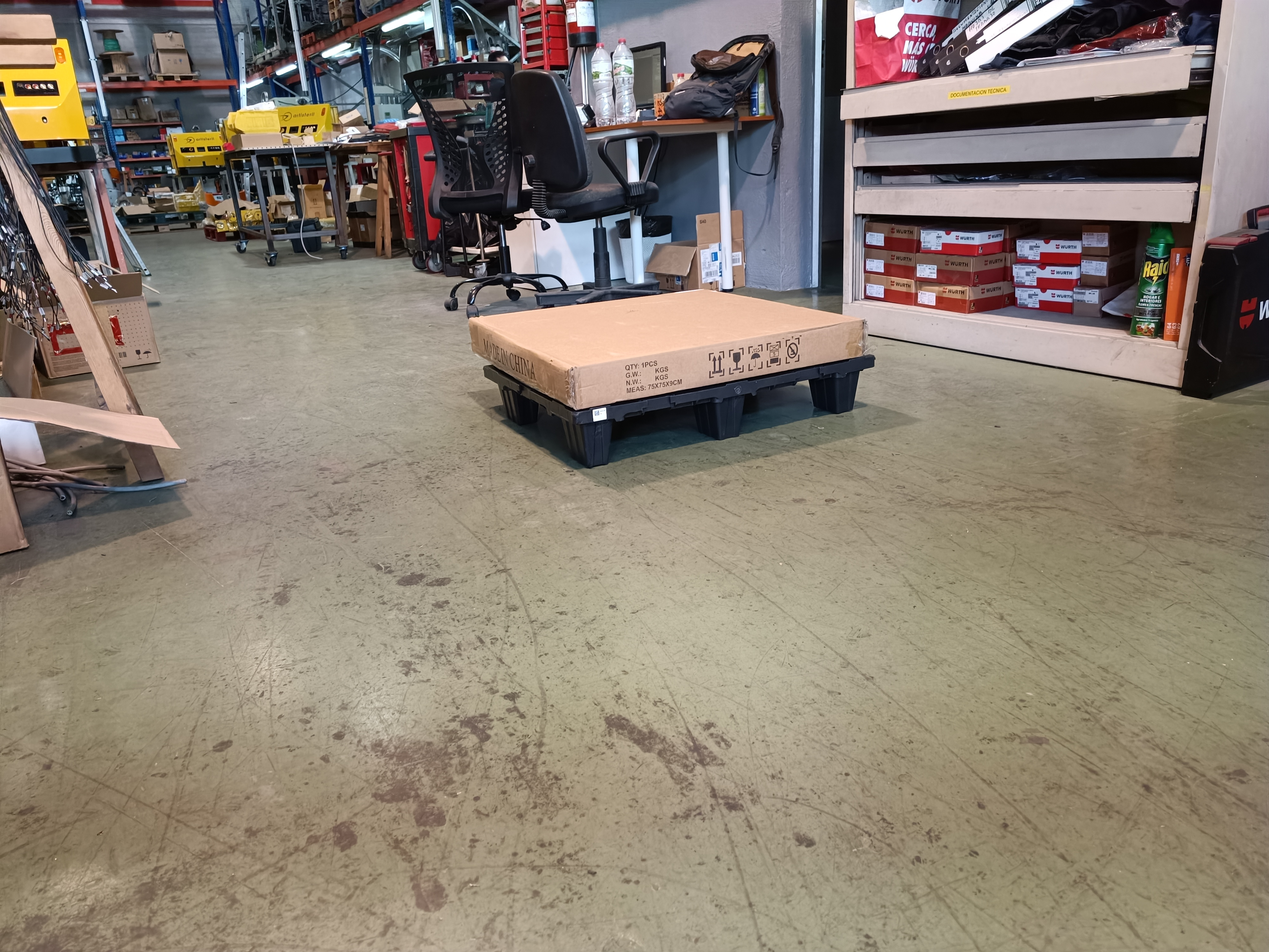block: (810, 356, 869, 414), (560, 411, 613, 466), (501, 391, 549, 433), (692, 399, 747, 435)
front: (577, 355, 872, 468)
hole pallet: (603, 392, 706, 457), (742, 373, 831, 429)
